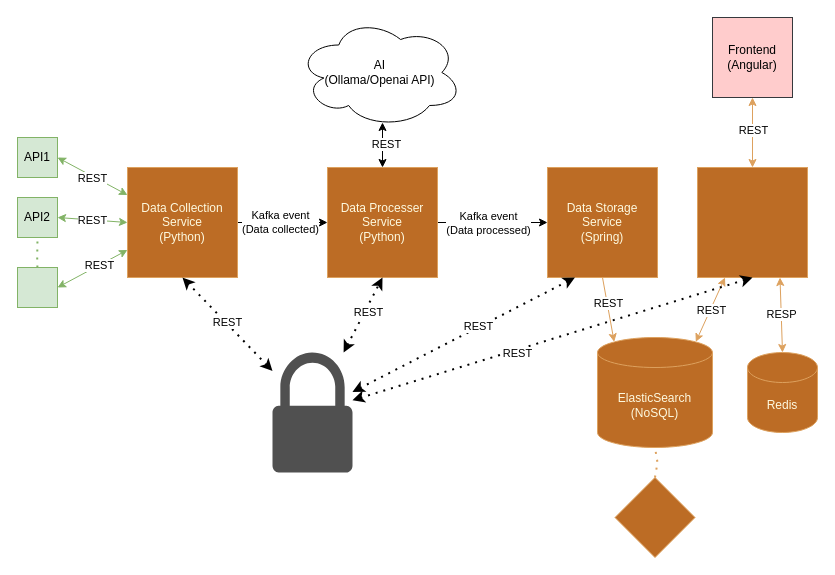
Some shapes in this 835 by 575 pixel diagram are drawn without their labels. Here are the shapes that lost their labels. From the top down, the centre of each, then its label:
At (x=752, y=222): "Data Search Service (Spring)".
At (x=37, y=287): "RSS3".
At (x=312, y=412): "Hashicorp Vault".
At (x=654, y=517): "Grafana".
